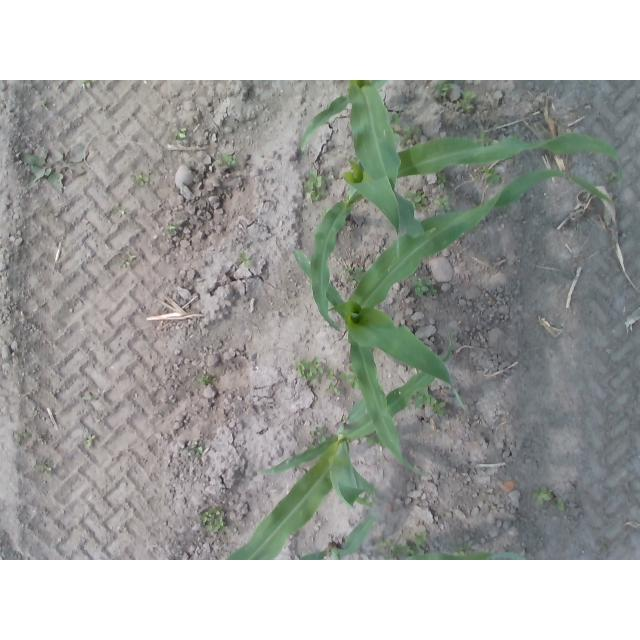Maize: (289, 168, 615, 476), (310, 132, 623, 337), (225, 344, 453, 560), (299, 80, 426, 240), (297, 514, 492, 560)
Weeds: (19, 150, 89, 195), (202, 505, 227, 532), (298, 357, 323, 379), (411, 279, 437, 296), (533, 485, 552, 504), (411, 191, 430, 210), (416, 391, 437, 408), (460, 89, 476, 111), (308, 171, 323, 190), (402, 127, 422, 140), (487, 167, 501, 184), (436, 194, 450, 210), (316, 427, 331, 441), (239, 252, 254, 266), (115, 203, 129, 218), (391, 112, 402, 131), (414, 531, 428, 545), (440, 83, 453, 97), (381, 540, 394, 553), (432, 402, 446, 414), (221, 156, 236, 167), (350, 267, 362, 280), (80, 80, 97, 89), (138, 174, 150, 186), (174, 129, 187, 140), (87, 435, 98, 447), (18, 431, 30, 442), (197, 375, 211, 384), (44, 463, 55, 474), (327, 384, 340, 393), (339, 372, 353, 380), (402, 548, 414, 557), (437, 173, 447, 183), (127, 254, 138, 262), (459, 545, 471, 552), (196, 442, 205, 451), (343, 267, 351, 277), (86, 395, 97, 402), (312, 190, 319, 201), (609, 171, 616, 182), (559, 502, 566, 511), (168, 223, 177, 230), (326, 371, 334, 378)
